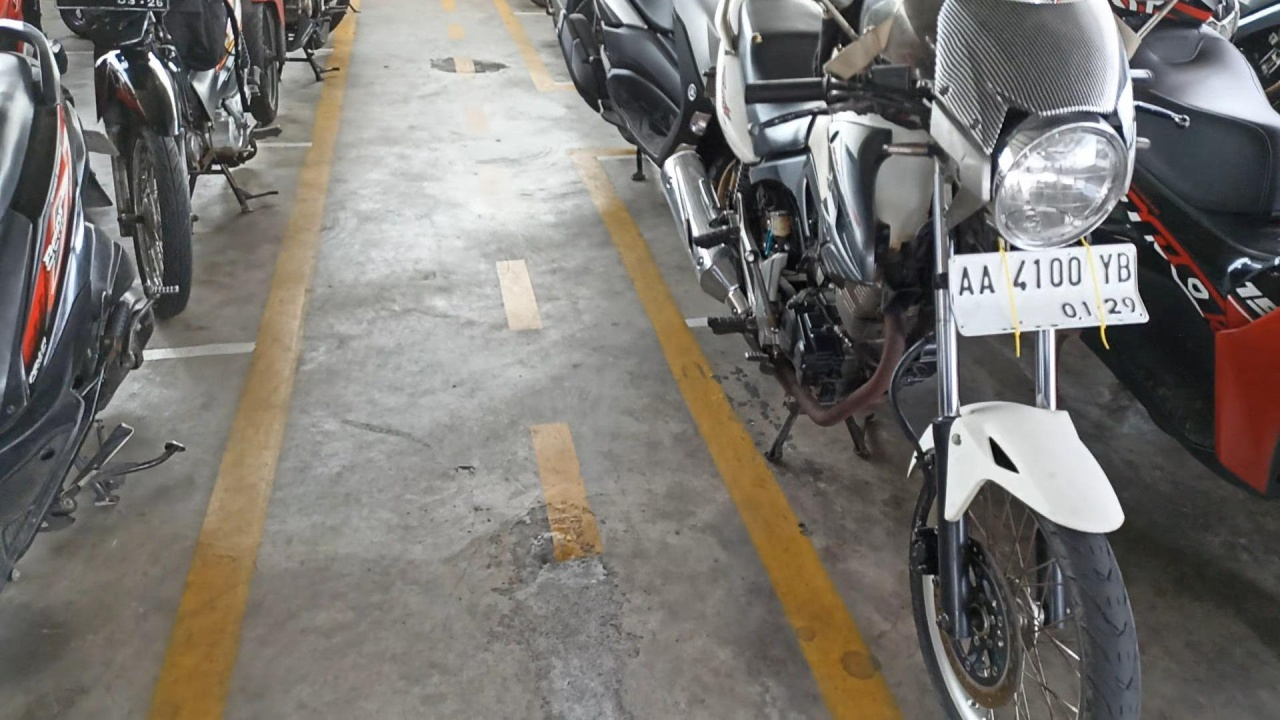plate: (950, 246, 1147, 334)
